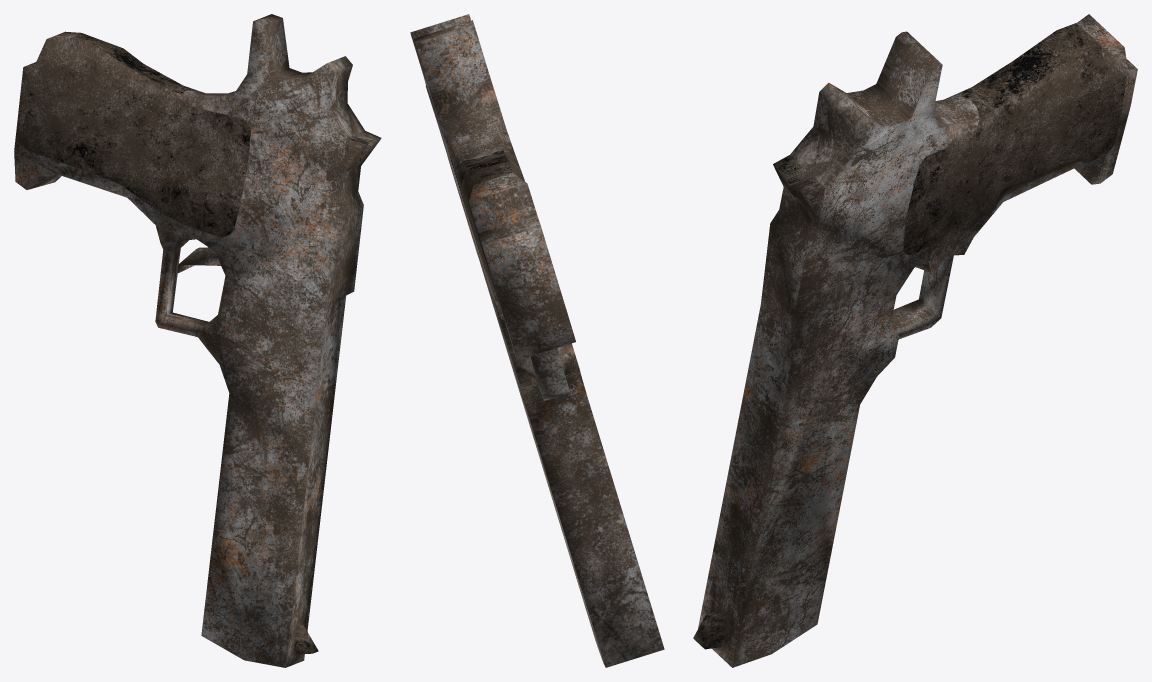
Rendered from Anim_disparar_pistola_objetos.0016.obj.
The picture shows the model from 3 angles, left to right: view 1: azimuth 30°, elevation 25°; view 2: azimuth 150°, elevation 25°; view 3: azimuth 270°, elevation 25°; orthographic projection. The views are drawn at different scales.
Parts seen in each view (by area): view 1: Pistola1; view 2: Pistola1; view 3: Pistola1.
Boxes of the visible parts, x1,y1,x2,y2 form: Pistola1: (14,14,381,667); Pistola1: (410,14,664,667); Pistola1: (693,14,1137,667).
Size of the model in its own units: 0.7565 by 1.69 by 1.04.
